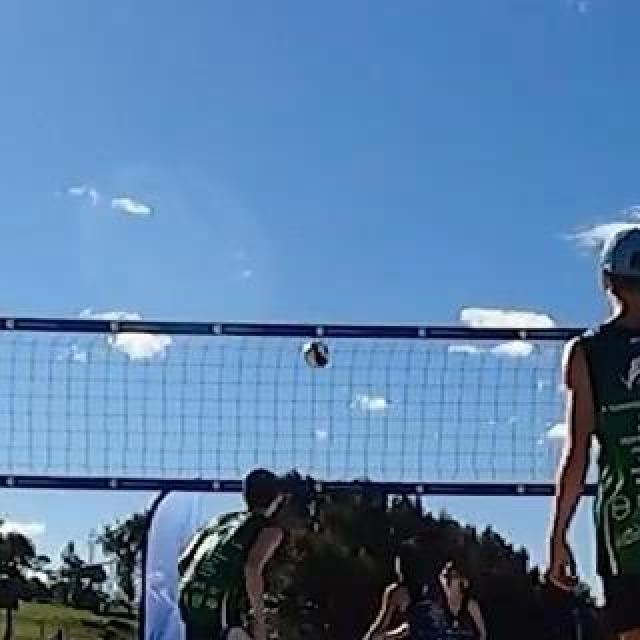volleyball: (301, 342, 327, 368)
